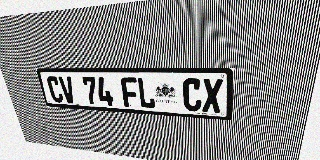4: (95, 77, 114, 106)
7: (81, 77, 100, 105)
C: (183, 78, 202, 112), (46, 76, 64, 103)
F: (120, 77, 139, 108)
L: (137, 77, 156, 109)
V: (58, 76, 77, 104)
X: (202, 78, 223, 113)
